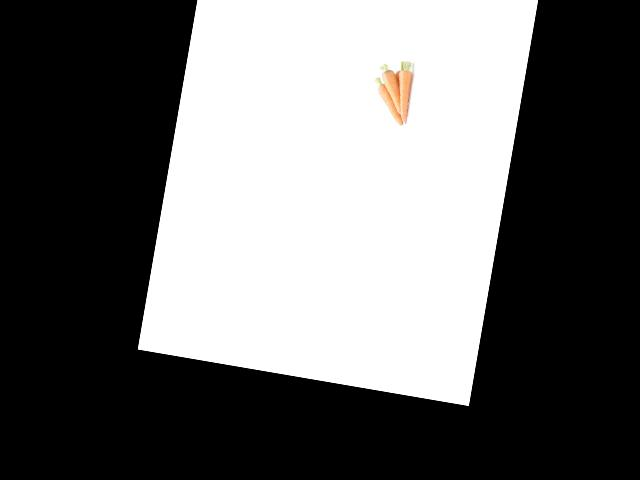carrot: (391, 64, 420, 126)
